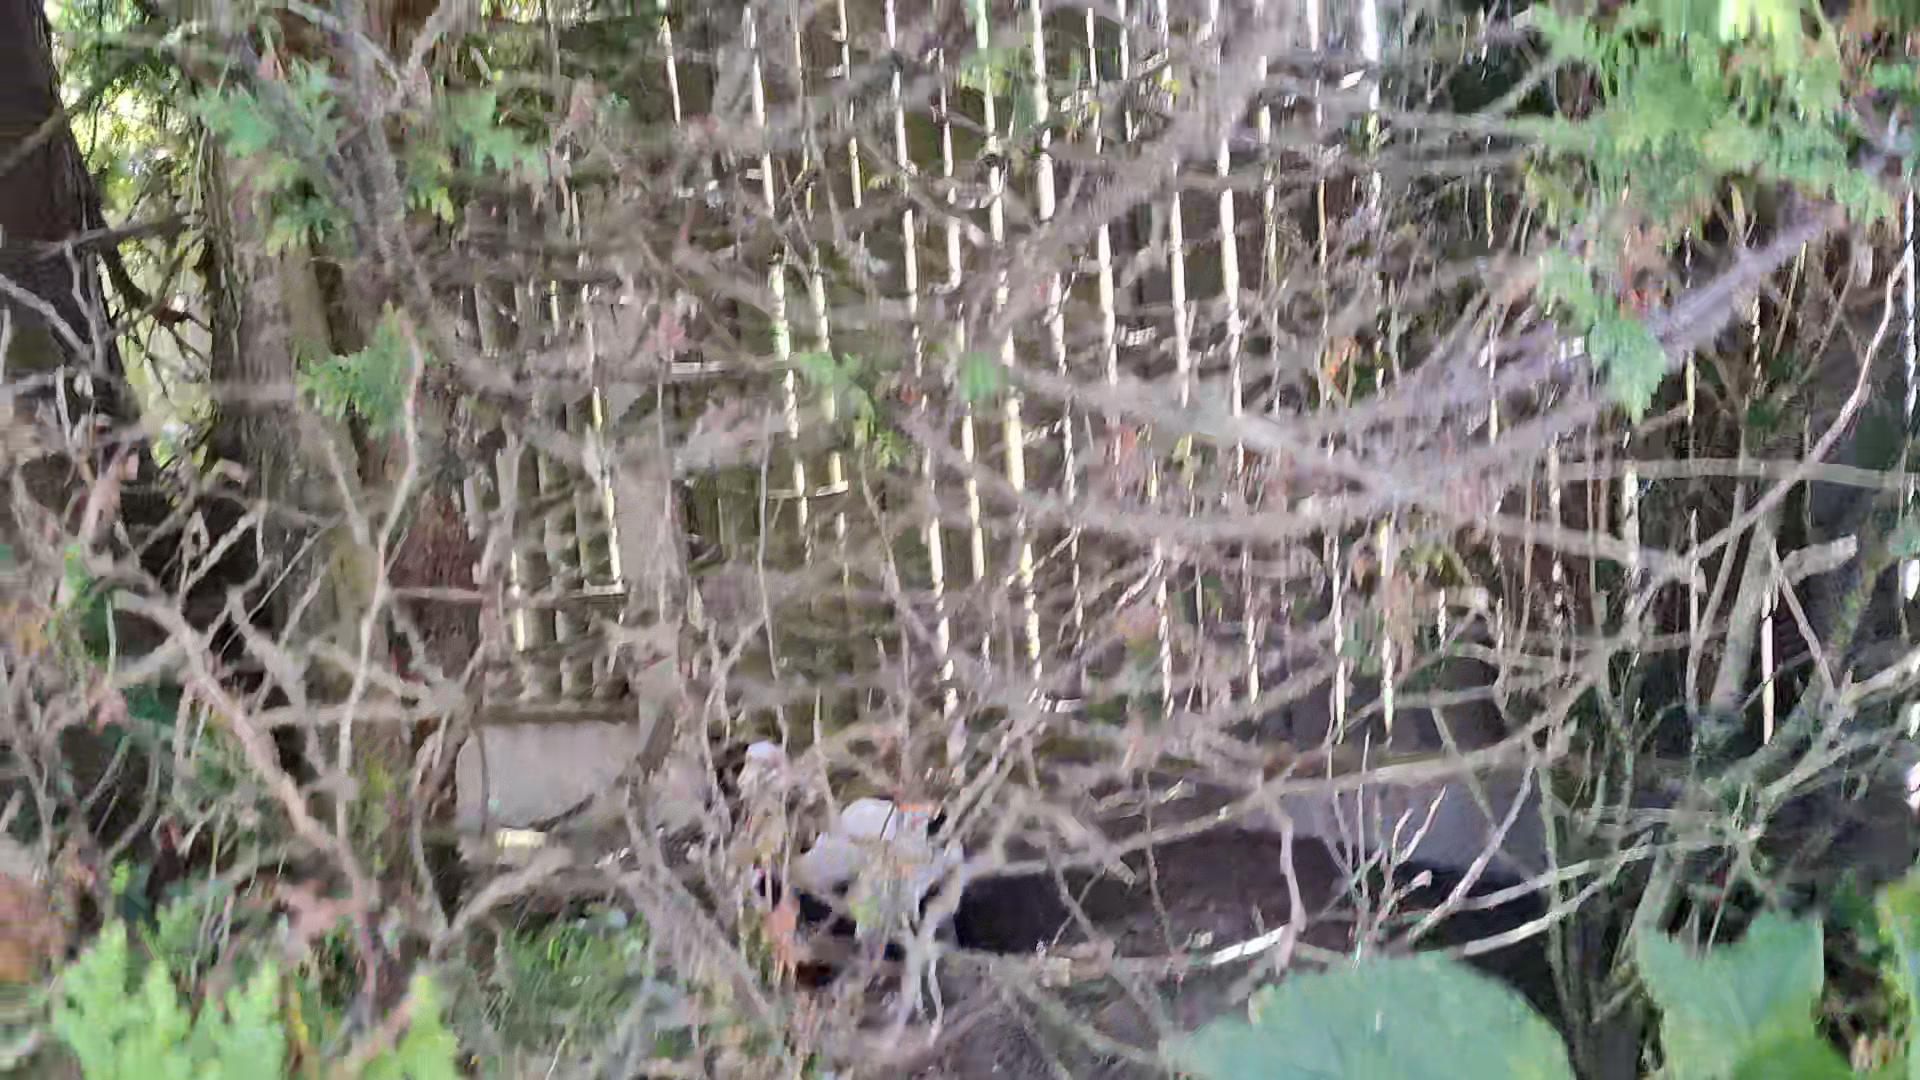Dog: (712, 704, 978, 1025)
